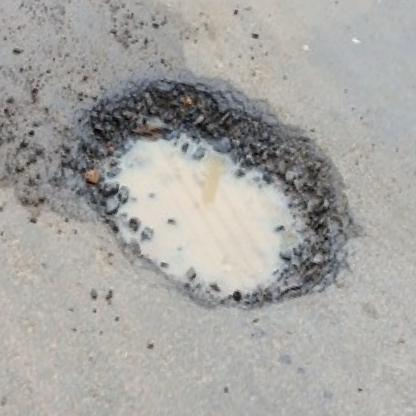pothole: (46, 53, 384, 342)
